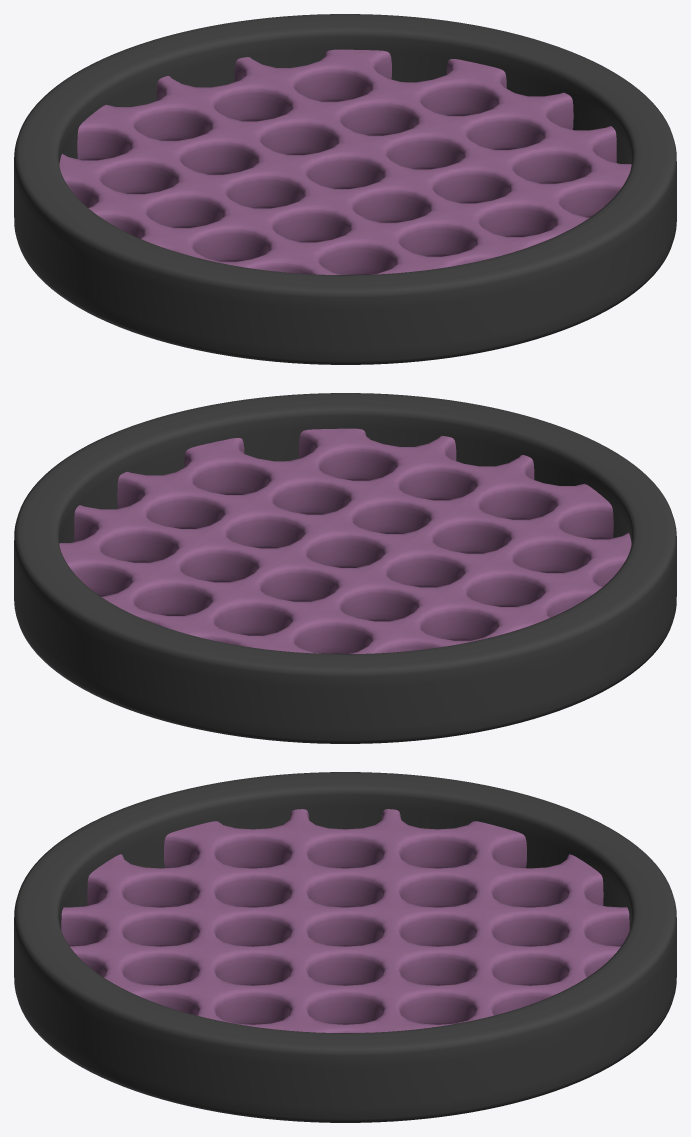
File: catcher5.fbx
3 views of the same model, one above another, from view 1: azimuth 30°, elevation 25°; view 2: azimuth 150°, elevation 25°; view 3: azimuth 270°, elevation 25° (orthographic).
Parts seen in each view (by area): view 1: Plane; view 2: Plane; view 3: Plane.
Boxes of the visible parts, x1=… form: Plane: x1=14, y1=14, x2=676, y2=364; Plane: x1=14, y1=393, x2=676, y2=743; Plane: x1=14, y1=772, x2=676, y2=1122.
Size of the model in its own units: 799 by 100 by 799.
